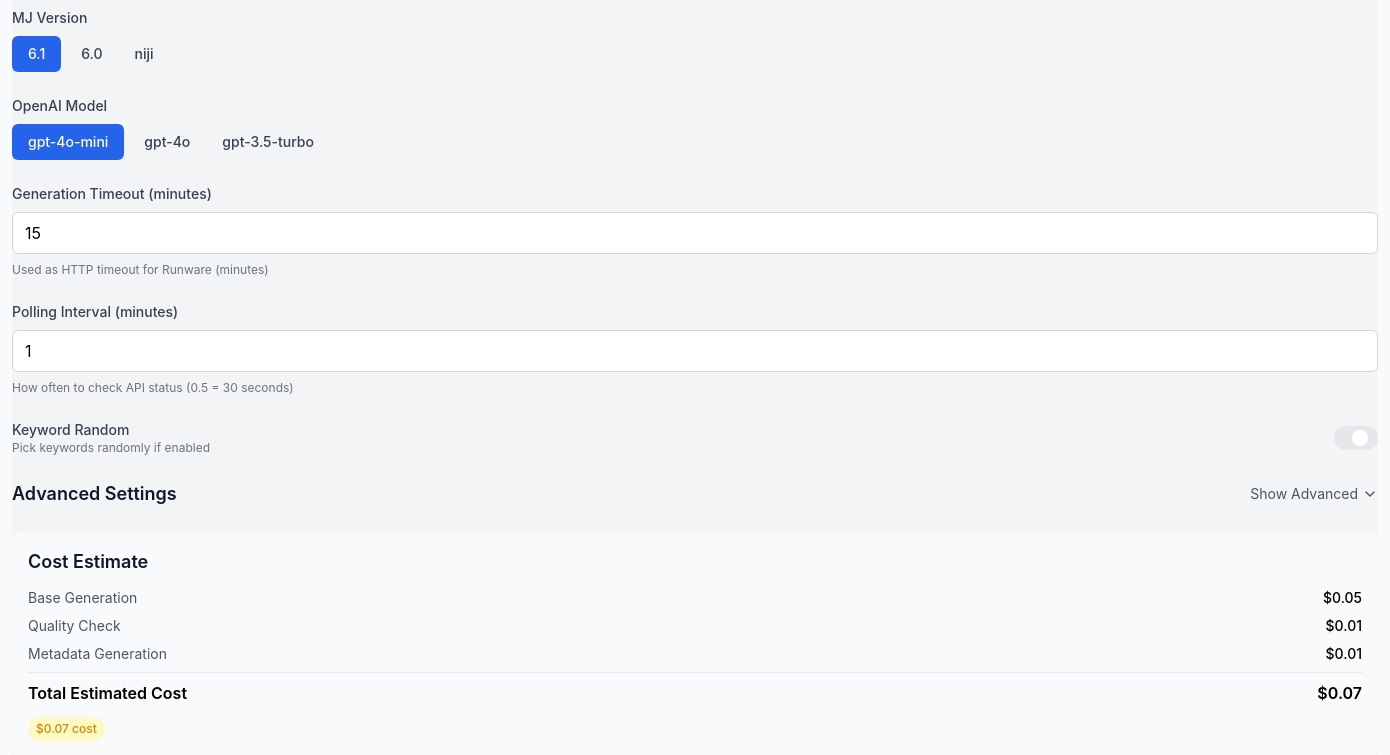
ParametersSection › renders image processing settings
(page scrolled)
Note: Expand advanced settings first
Click the button "Show Advanced" at (1314, 494), box [1250,484,1378,504]
(page scrolled)
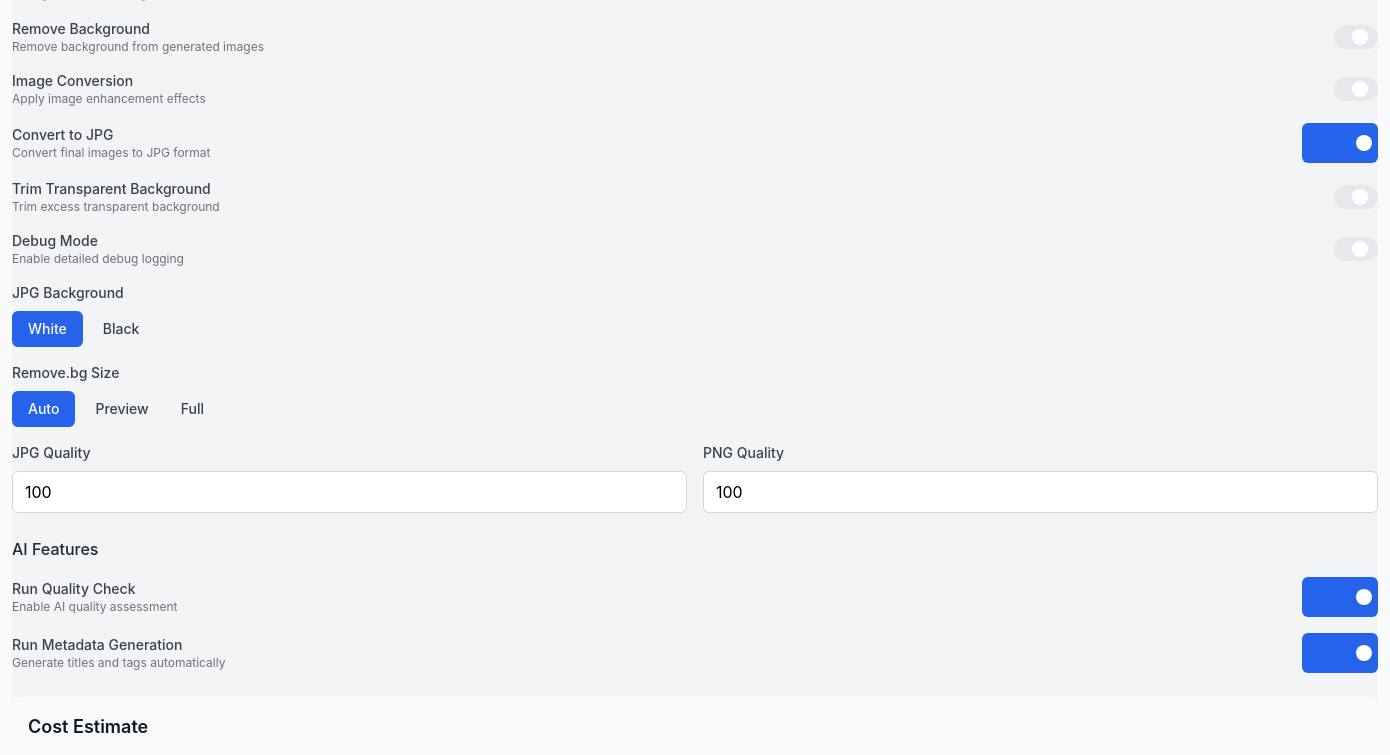
Result: the text "JPG Background" is shown at [12,284,124,301]
Result: the text "Remove.bg Size" is shown at [12,364,119,381]
